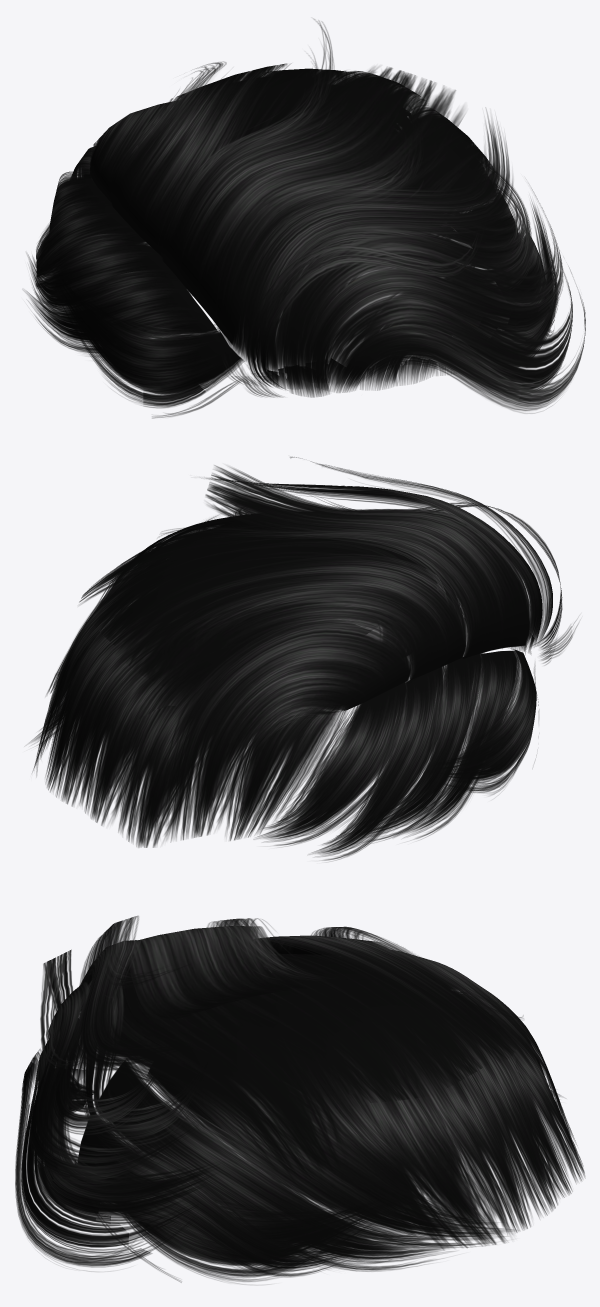
Rendered from Oblong_Straight_SidePart.glb.
3 views of the same model, one above another, from view 1: azimuth 30°, elevation 25°; view 2: azimuth 150°, elevation 25°; view 3: azimuth 270°, elevation 25° (orthographic). The views are drawn at different scales.
Visible parts, largest first — view 1: s4studio_mesh_3.003; view 2: s4studio_mesh_3.003; view 3: s4studio_mesh_3.003.
Part boxes in pixels (box(x1,y1,x2,y2)): s4studio_mesh_3.003: box(24, 19, 585, 418); s4studio_mesh_3.003: box(28, 457, 578, 860); s4studio_mesh_3.003: box(15, 916, 584, 1283).
Size of the model in its own units: 0.168 by 0.105 by 0.2048.
Materials: 1 (1 with a texture image).
